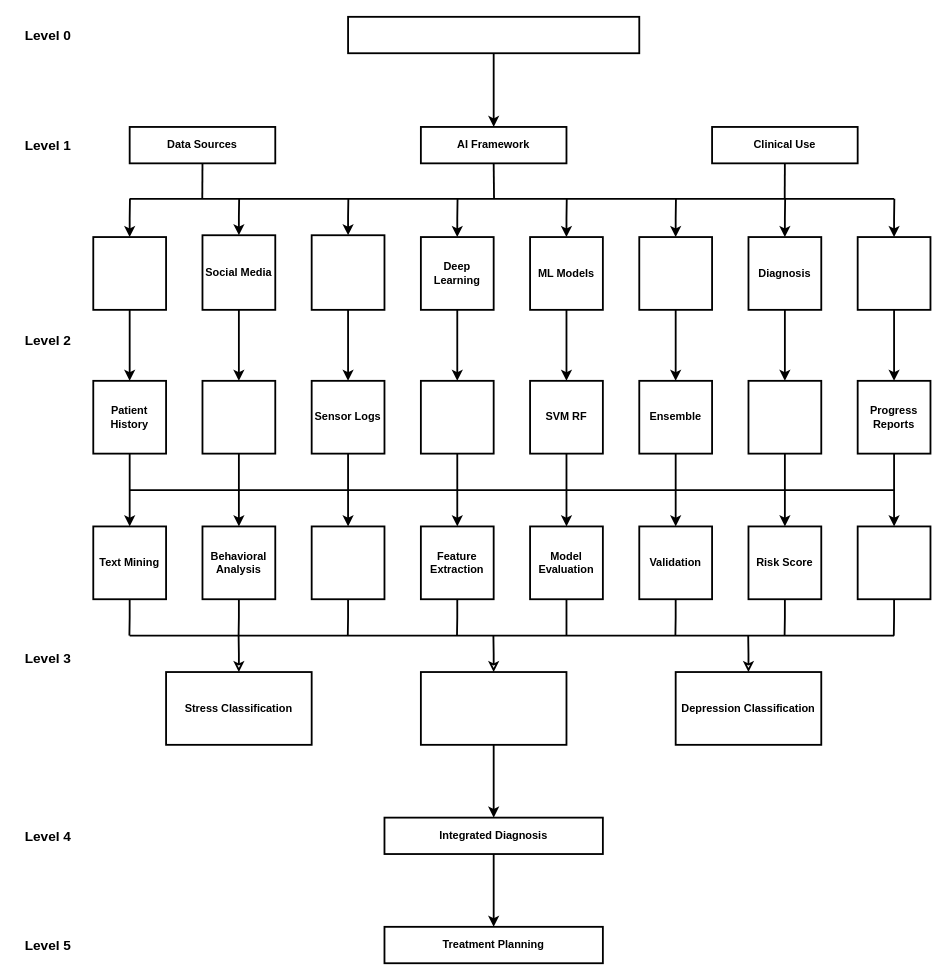
Some shapes in this 946 by 979 pixel diagram are drawn without their labels. The shapes that lost their labels are listed below. From the top down, each one's centre as x and y in pixels, then its label:
At pixel 493 34: "AI Driven Mental Health Diagnosis".
At pixel 129 273: "Clinical Records".
At pixel 347 272: "Physio Data".
At pixel 675 273: "Hybrid Models".
At pixel 893 273: "Monitor and Track".
At pixel 238 416: "Online Posts".
At pixel 457 416: "CNN LSTM".
At pixel 784 416: "Stress Level".
At pixel 347 562: "Vital Signs".
At pixel 893 562: "Treatment".
At pixel 493 708: "Dementia Classification".
